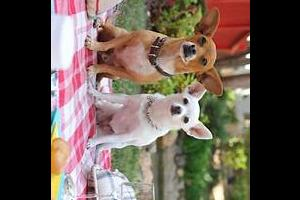dog: (84, 6, 223, 95), (85, 80, 213, 158)
